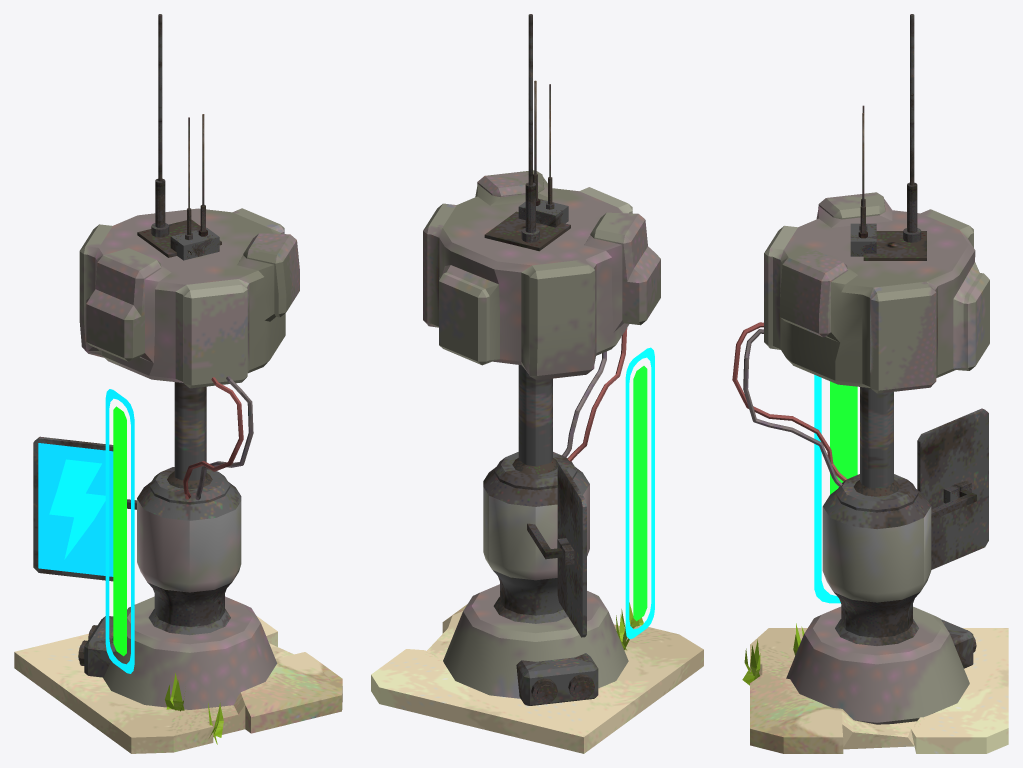
The model's file is solarStation1-4.glb.
3 renders of one model, left to right at view 1: azimuth 30°, elevation 25°; view 2: azimuth 150°, elevation 25°; view 3: azimuth 270°, elevation 25°, orthographic. The views are drawn at different scales.
Parts seen in each view (by area): view 1: solarStation1-4; view 2: solarStation1-4; view 3: solarStation1-4.
Boxes of the visible parts, x1=… form: solarStation1-4: x1=14, y1=14, x2=342, y2=753; solarStation1-4: x1=371, y1=14, x2=703, y2=753; solarStation1-4: x1=732, y1=14, x2=1008, y2=753.
Size of the model in its own units: 0.924 by 2.7 by 0.9872.
3 materials, 1 textured.
